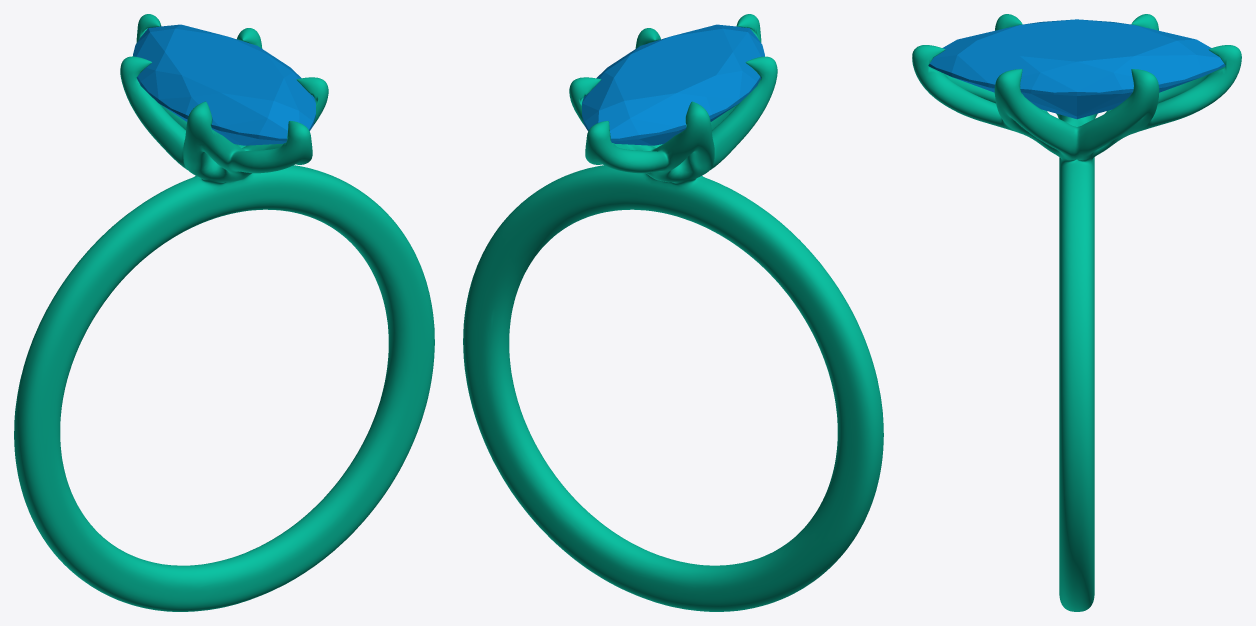
Rendered from BE1901_MQ_200ct_RENDER.glb.
3 renders of one model, left to right at view 1: azimuth 30°, elevation 25°; view 2: azimuth 150°, elevation 25°; view 3: azimuth 270°, elevation 25°, orthographic.
Parts seen in each view (by area): view 1: Metal 01, CS_Diamond_Marquise; view 2: Metal 01, CS_Diamond_Marquise; view 3: Metal 01, CS_Diamond_Marquise.
Boxes of the visible parts, x1=… form: Metal 01: x1=14, y1=14, x2=434, y2=611; CS_Diamond_Marquise: x1=133, y1=24, x2=315, y2=145; Metal 01: x1=463, y1=14, x2=883, y2=611; CS_Diamond_Marquise: x1=582, y1=24, x2=764, y2=145; Metal 01: x1=912, y1=14, x2=1241, y2=611; CS_Diamond_Marquise: x1=928, y1=19, x2=1225, y2=119.
Bounding box in the file's own units: 20.49 × 25.5 × 13.89.
